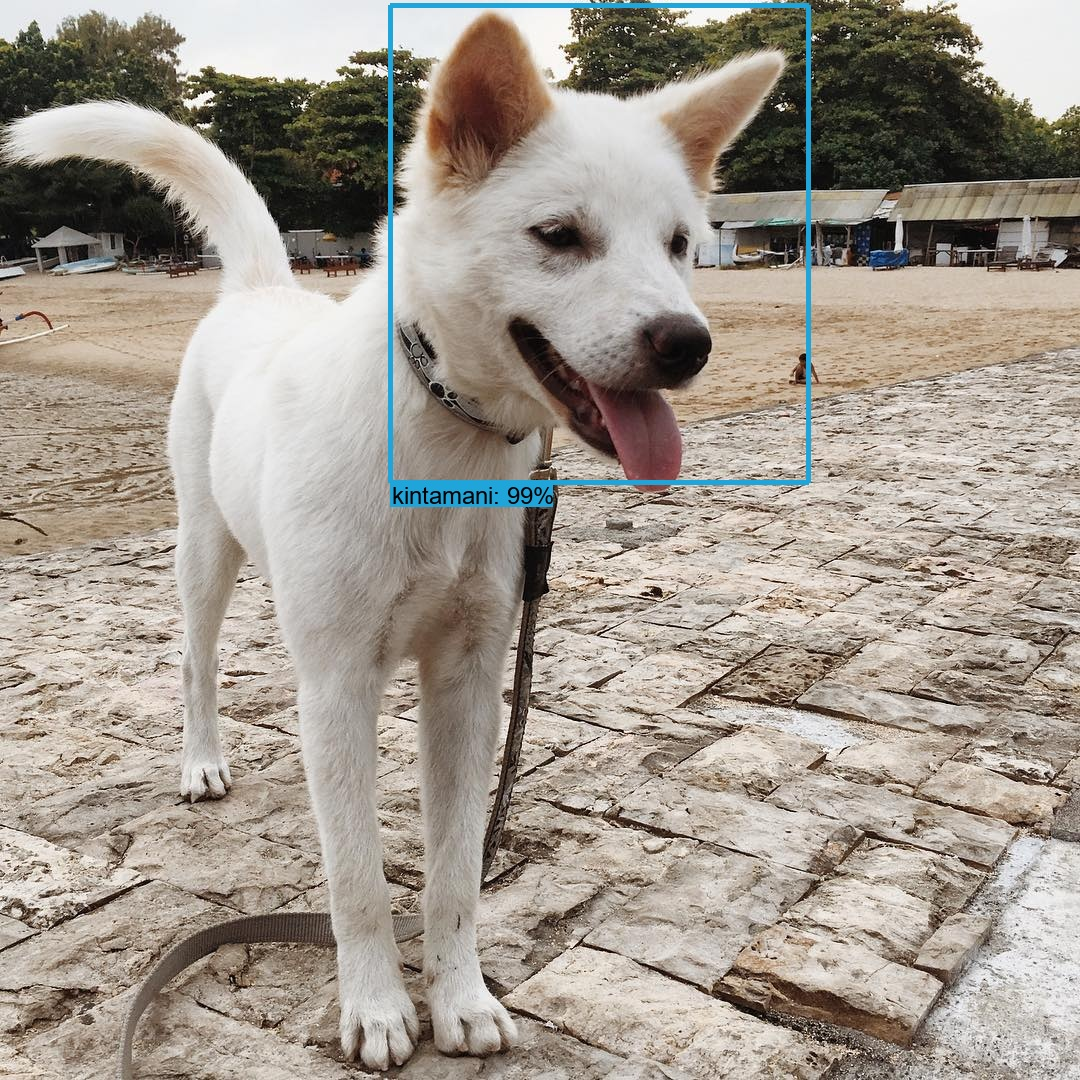kintamani: (385, 1, 791, 462)
